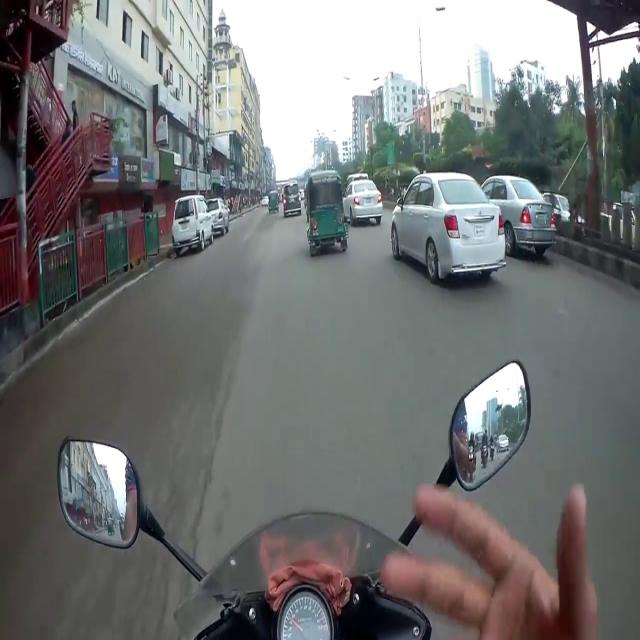silver: (482, 176, 555, 252), (210, 197, 230, 235)
